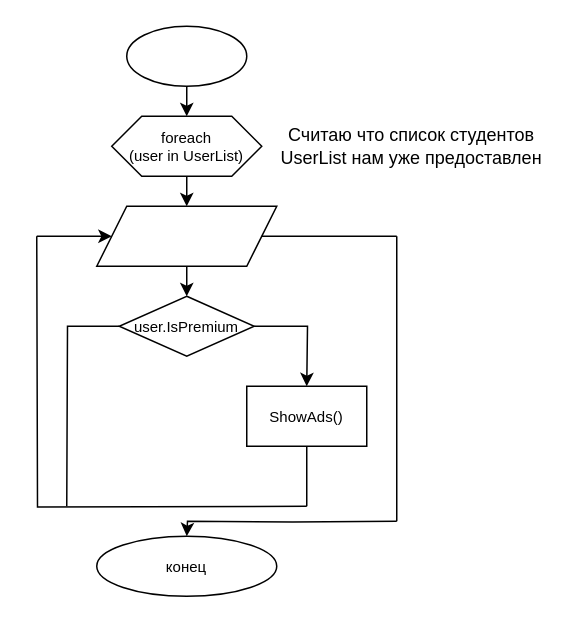
This 573x623 diagram has some shape labels left out. The shapes that lost their labels are listed below. From the top down, each one's centre as x and y in pixels, then its label:
(186,55): начало
(186,235): Вывести: "Здравствуйте, " + user.Name
